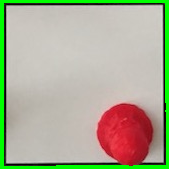Red Pawn: (95, 101, 156, 165)
